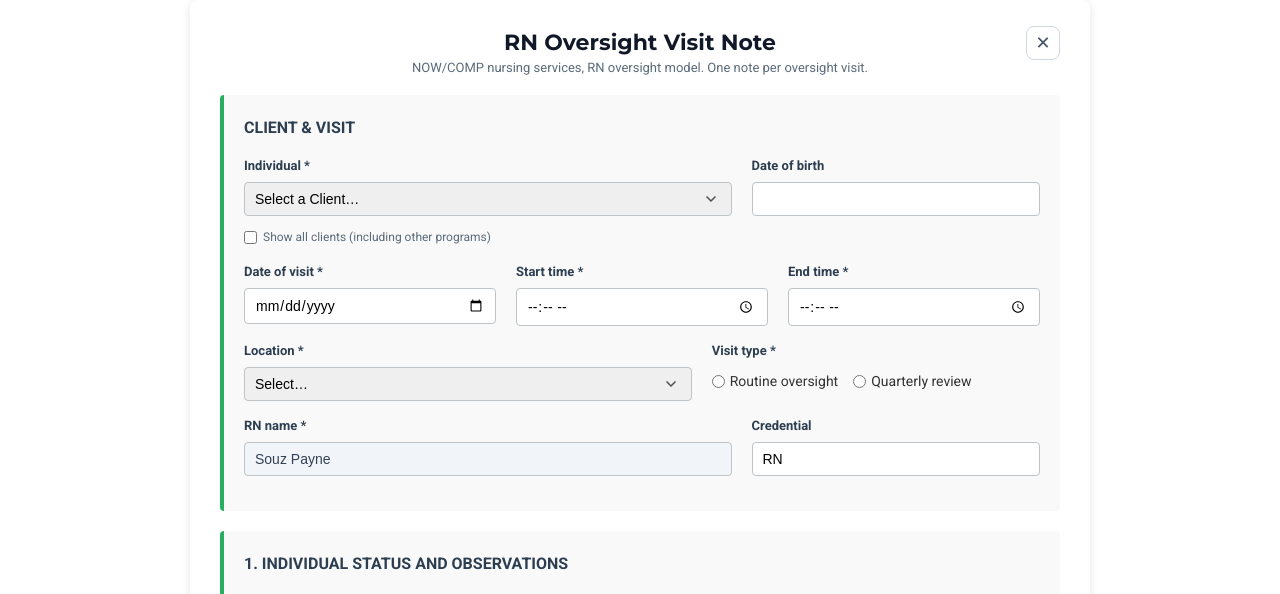
Test: OversightNotePage — documented vs. billable time › says up front when the visit will be non-billable, naming the visit that used the hours
The width and height of the screenshot is (1280, 594).
Select "Neal Kelly" in the dropdown labelled "Individual *" at (488, 199), box x1=244 y1=182 x2=732 y2=216
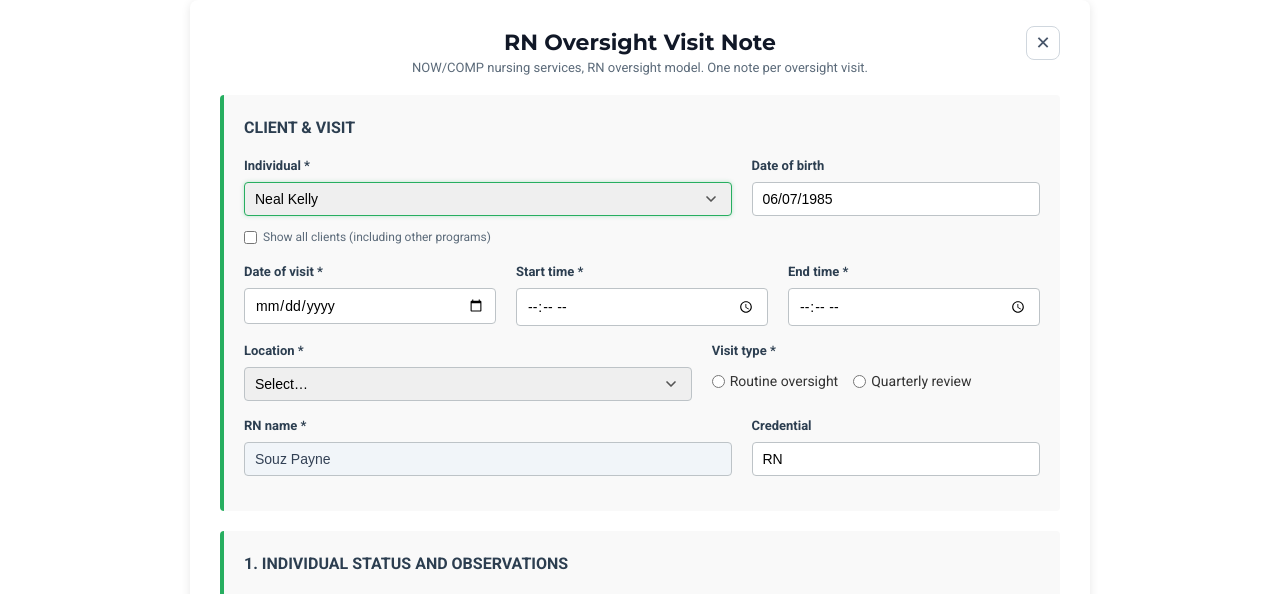
Type "2026-09-28" into the date field labelled "Date of visit *" at (370, 306), box x1=244 y1=288 x2=496 y2=324
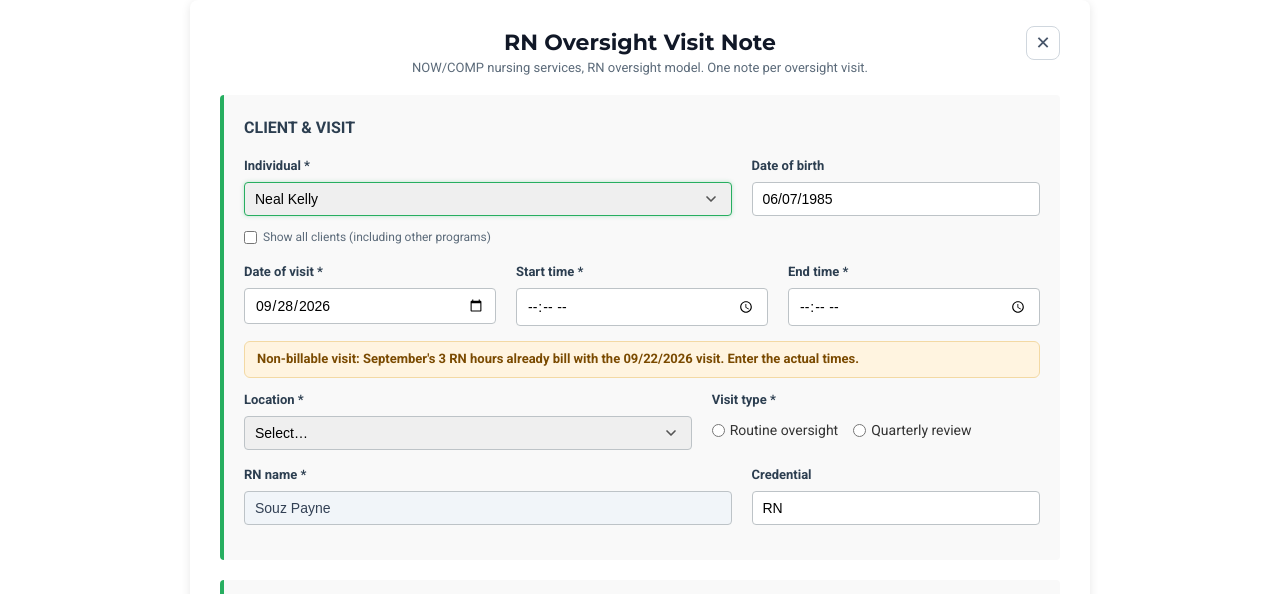
Expected: the text "Non-billable visit: September's 3 RN hours already bill with the 09/22/2026 visit. Enter the actual times." is shown, x1=257 y1=351 x2=859 y2=366
